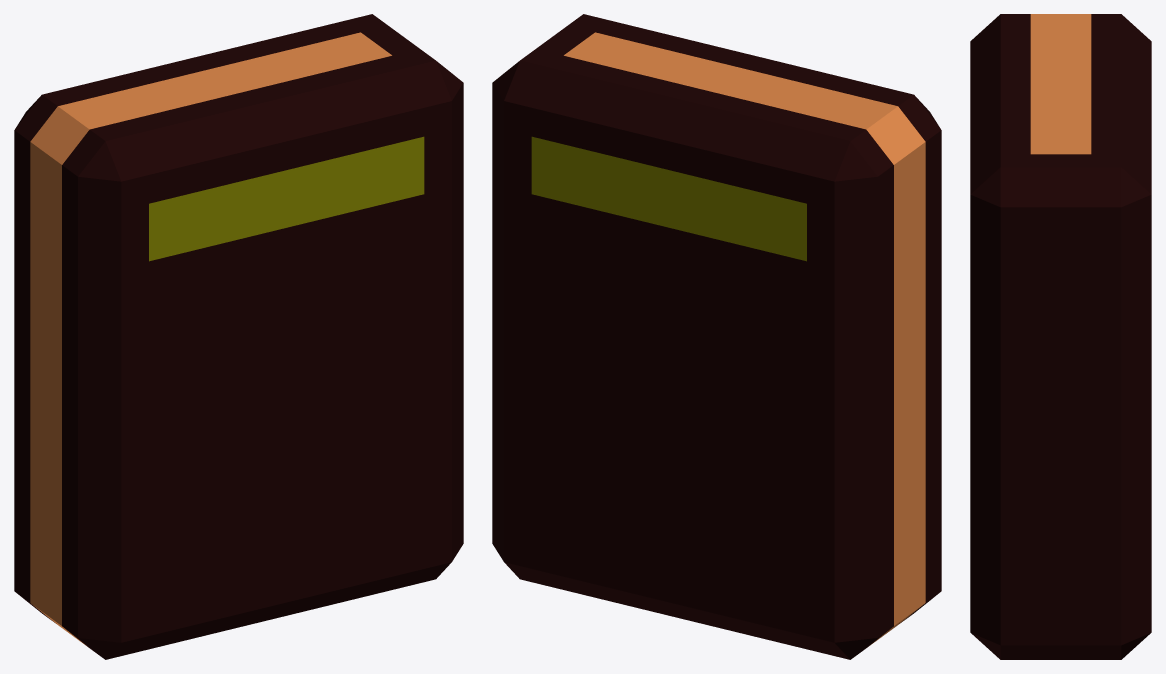
File: Book3.fbx
The picture shows the model from 3 angles, left to right: view 1: azimuth 30°, elevation 25°; view 2: azimuth 150°, elevation 25°; view 3: azimuth 270°, elevation 25°; orthographic projection. The views are drawn at different scales.
Parts seen in each view (by area): view 1: Book3; view 2: Book3; view 3: Book3.
Part boxes in pixels (x1,y1,x2,y2): Book3: [14, 14, 463, 659]; Book3: [492, 14, 941, 659]; Book3: [970, 14, 1151, 659].
Size of the model in its own units: 70 by 90 by 30.
